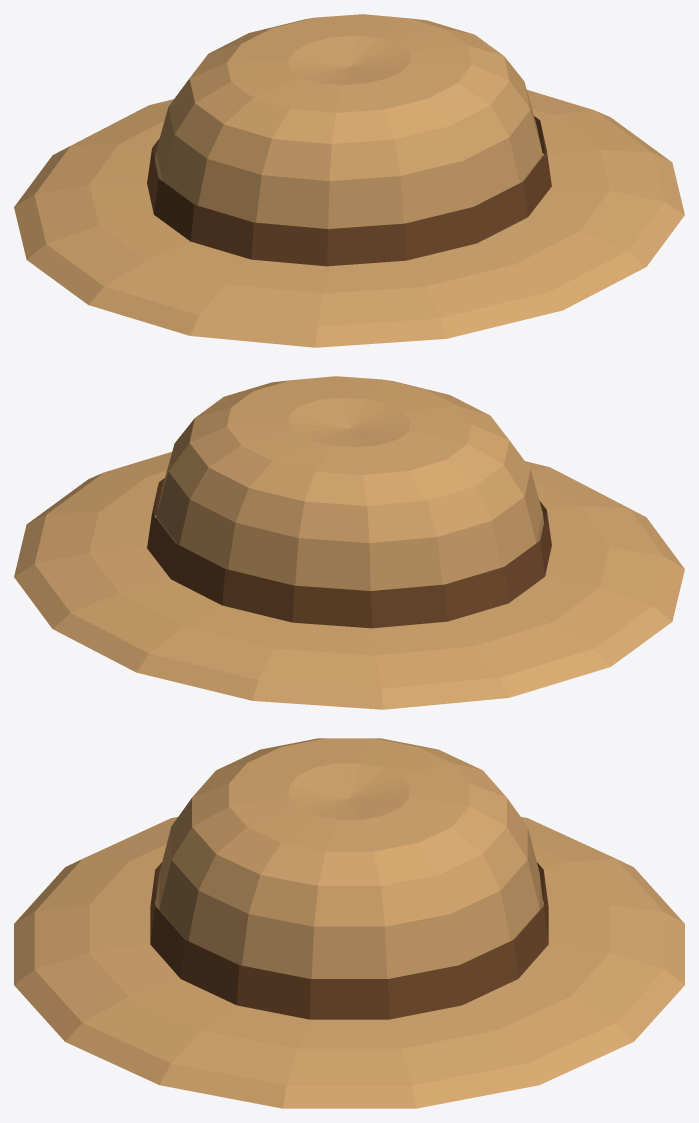
Rendered from explorer_hat.glb.
The picture shows the model from 3 angles, top to bottom: view 1: azimuth 30°, elevation 25°; view 2: azimuth 150°, elevation 25°; view 3: azimuth 270°, elevation 25°; orthographic projection. The views are drawn at different scales.
Parts seen in each view (by area): view 1: explorer_hat; view 2: explorer_hat; view 3: explorer_hat.
Part boxes in pixels (x1,y1,x2,y2): explorer_hat: [14, 14, 684, 347]; explorer_hat: [14, 376, 684, 709]; explorer_hat: [14, 738, 684, 1108].
Bounding box in the file's own units: 0.9612 × 0.237 × 0.8843.
